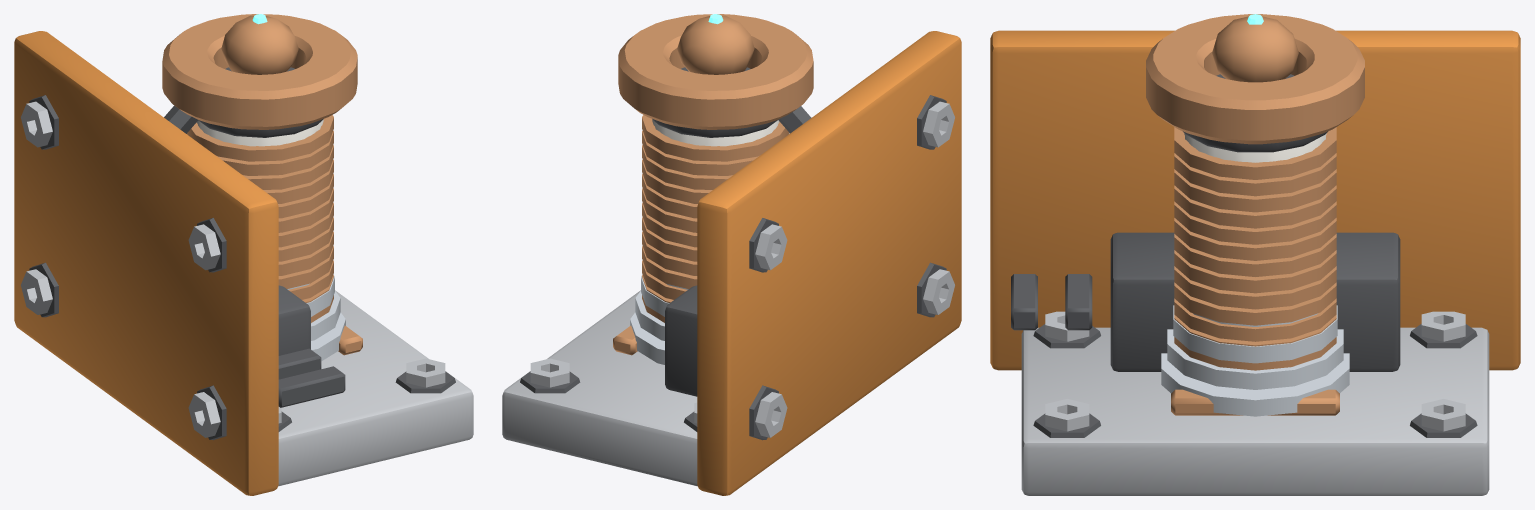
File: tesla_arc.glb
The picture shows the model from 3 angles, left to right: view 1: azimuth 30°, elevation 25°; view 2: azimuth 150°, elevation 25°; view 3: azimuth 270°, elevation 25°; orthographic projection. The views are drawn at different scales.
Parts seen in each view (by area): view 1: body; view 2: body; view 3: body.
Part boxes in pixels (box(x1,y1,x2,y2)): body: box(14, 14, 473, 495); body: box(502, 14, 961, 495); body: box(990, 14, 1520, 495).
Bounding box in the file's own units: 0.1374 × 0.1925 × 0.22.
